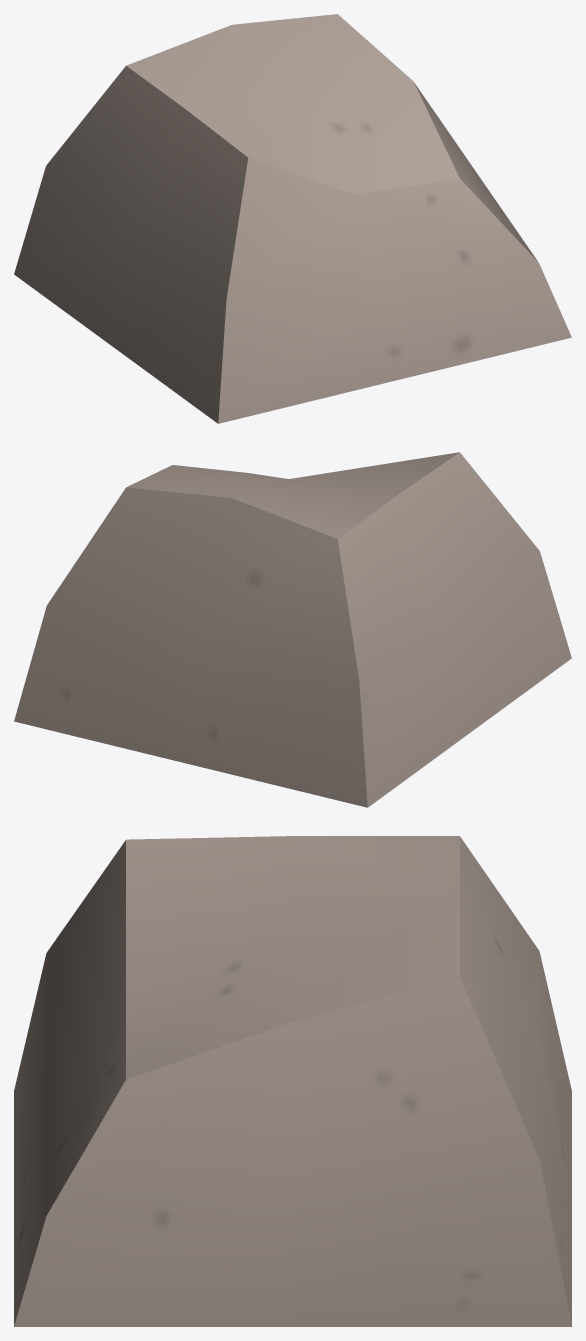
The model's file is FBX_Rock02.fbx.
3 renders of one model, top to bottom at view 1: azimuth 30°, elevation 25°; view 2: azimuth 150°, elevation 25°; view 3: azimuth 270°, elevation 25°, orthographic. The views are drawn at different scales.
Parts seen in each view (by area): view 1: pCube24; view 2: pCube24; view 3: pCube24.
Part boxes in pixels (x1,y1,x2,y2): pCube24: (14, 14, 571, 423); pCube24: (14, 452, 571, 807); pCube24: (14, 836, 571, 1326).
Bounding box in the file's own units: 31.49 × 20.12 × 31.49.
